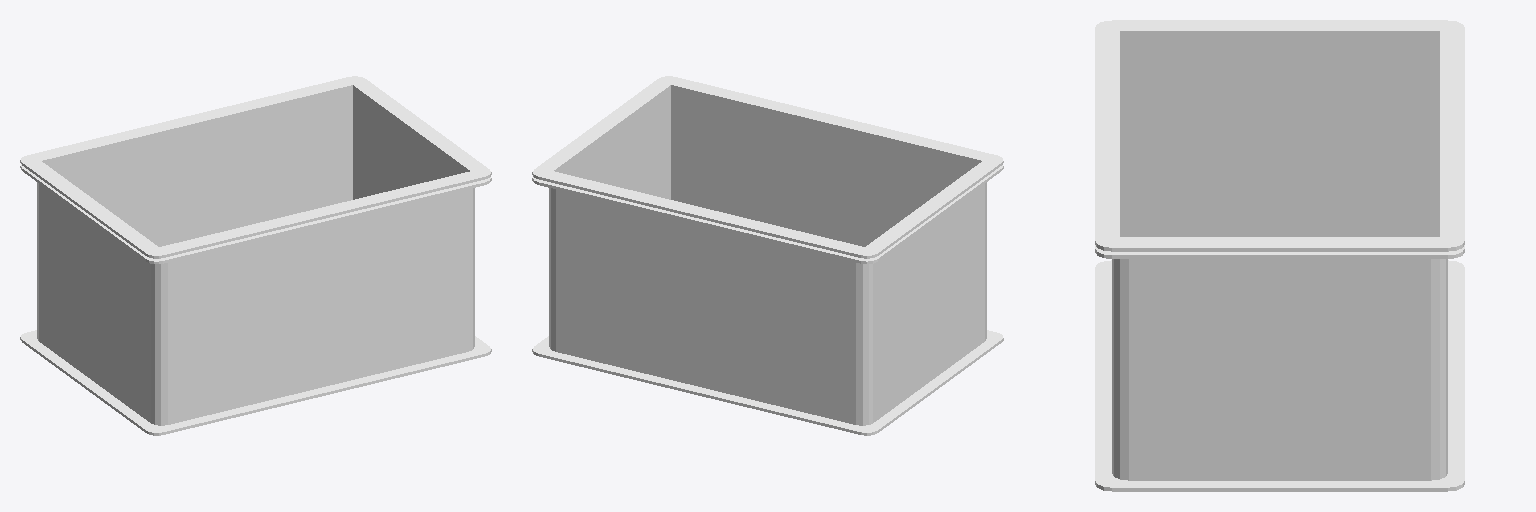
The robot description file, URDF, robot "Eurocrate V3.0":
<?xml version="1.0" encoding="utf-8"?>
<!-- This URDF was automatically created by SolidWorks to URDF Exporter! Originally created by [author] ([email redacted]) 
     Commit Version: 1.5.1-0-g916b5db  Build Version: 1.5.7152.31018
     For more information, please see http://wiki.ros.org/sw_urdf_exporter -->
<robot
  name="Eurocrate V3.0">
  <link
    name="Eurocrate V3.0">
    <inertial>
      <origin
        xyz="0.3 0.2 0.1701"
        rpy="0 0 0" />
      <mass
        value="7.1075" />
      <inertia
        ixx="0.27401"
        ixy="-1.4447E-17"
        ixz="1.7943E-16"
        iyy="0.44382"
        iyz="-1.92649370565502E-17"
        izz="0.57018" />
    </inertial>
    <visual>
      <origin
        xyz="0 0 0"
        rpy="1.5707963267949 0 0" />
      <geometry>
        <mesh
          filename="package://Eurocrate V3.0/meshes/Eurocrate V3.0.STL" />
      </geometry>
      <material
        name="">
        <color
          rgba="1 1 1 1" />
        <texture
          filename="package://Eurocrate V3.0/textures/" />
      </material>
    </visual>
    <collision>
      <origin
        xyz="0 0 0"
        rpy="1.5707963267949 0 0" />
      <geometry>
        <mesh
          filename="package://Eurocrate V3.0/meshes/Eurocrate V3.0.STL" />
      </geometry>
    </collision>
  </link>
</robot>

--- Render facts (derived) ---
Views: 3 orthographic renders of the robot side by side, from view 1: azimuth 30°, elevation 25°; view 2: azimuth 150°, elevation 25°; view 3: azimuth 270°, elevation 25°.
Robot: Eurocrate V3.0 — 1 links, 0 joints (none); root link Eurocrate V3.0; default pose: all joints at 0.
Visible links, largest first — view 1: Eurocrate V3.0; view 2: Eurocrate V3.0; view 3: Eurocrate V3.0.
Boxes of the visible links, x1,y1,x2,y2 form: Eurocrate V3.0: (20, 76, 491, 435); Eurocrate V3.0: (532, 76, 1003, 435); Eurocrate V3.0: (1095, 20, 1464, 491).
Bounding box of the posed robot: 0.64 × 0.44 × 0.33 m (x, y, z).
Meshes: 1 distinct files referenced, 1 mesh visuals loaded (1 binary STL).